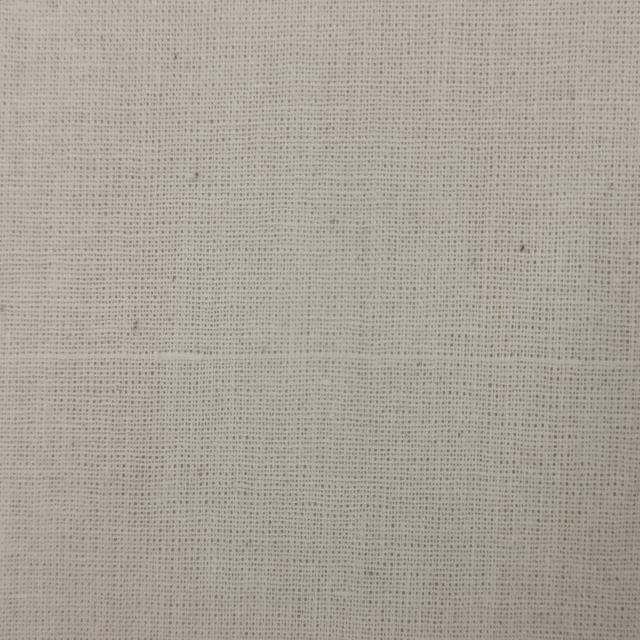stains: (14, 282, 638, 432)
